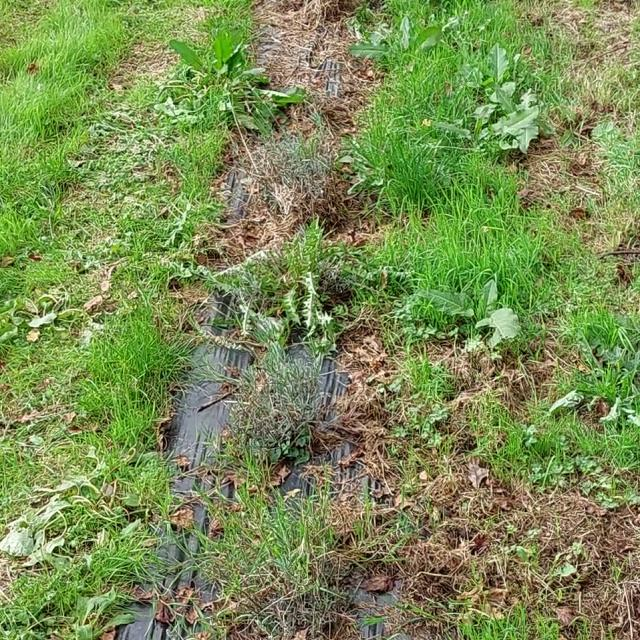organic waste: (166, 27, 292, 132), (0, 492, 128, 580), (425, 274, 543, 341), (342, 11, 459, 69), (457, 50, 544, 106), (20, 283, 97, 342), (488, 92, 560, 146), (436, 95, 503, 147)
